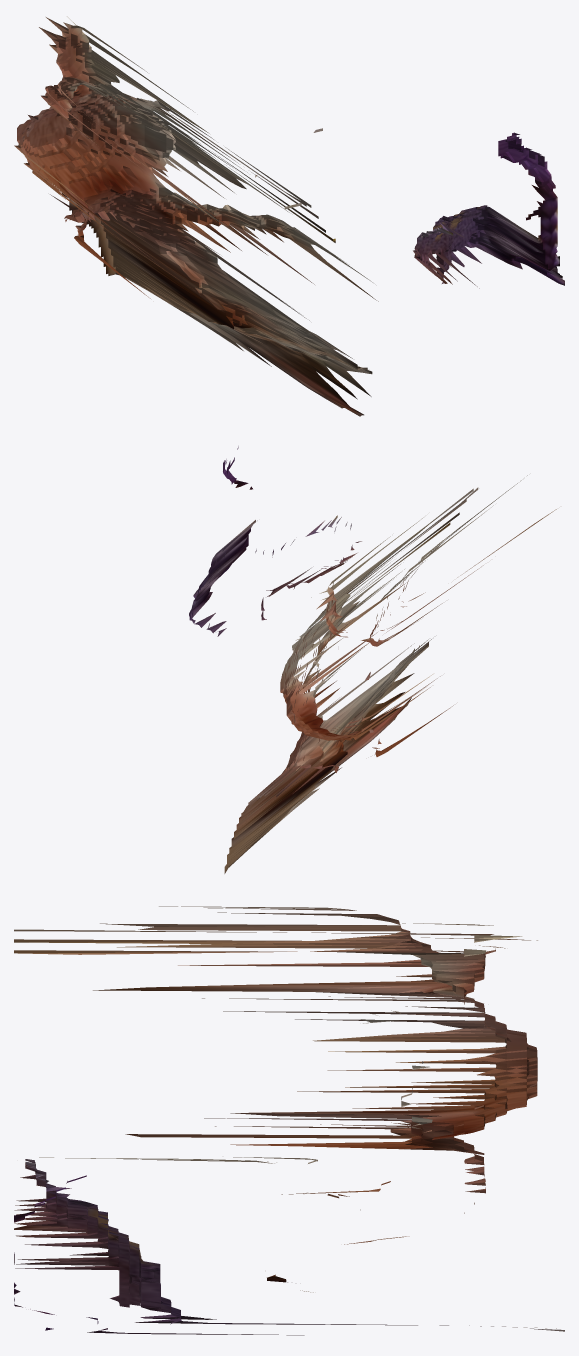
The model's file is frame_00311.glb.
The picture shows the model from 3 angles, top to bottom: view 1: azimuth 30°, elevation 25°; view 2: azimuth 150°, elevation 25°; view 3: azimuth 270°, elevation 25°; orthographic projection. The views are drawn at different scales.
Parts seen in each view (by area): view 1: geometry_0; view 2: geometry_0; view 3: geometry_0.
Boxes of the visible parts, x1,y1,x2,y2 form: geometry_0: (14, 16, 564, 416); geometry_0: (189, 446, 556, 873); geometry_0: (14, 906, 564, 1335).
Size of the model in its own units: 0.1417 by 0.1144 by 0.16.
1 material, 1 textured.
